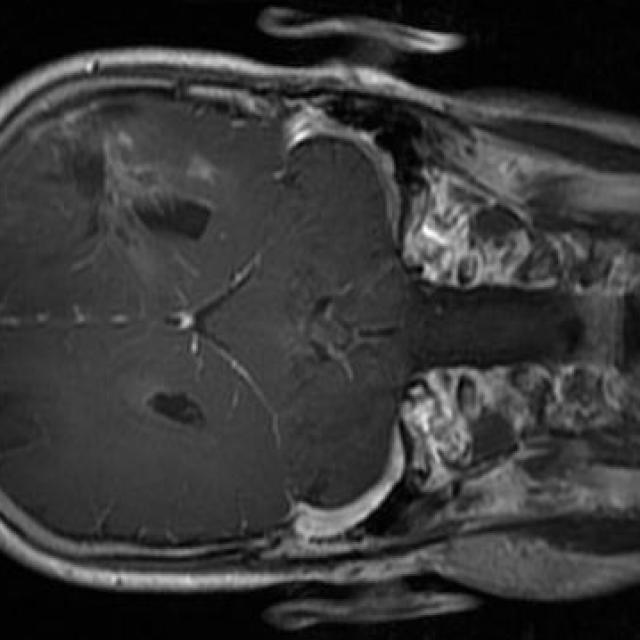glioma: (14, 100, 217, 262)
